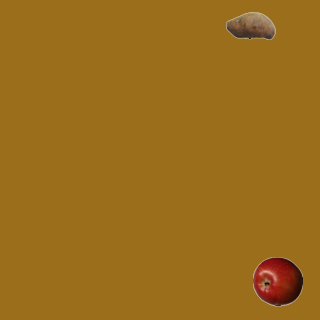Apple Braeburn: (252, 256, 302, 306)
Potato Sweet: (225, 0, 275, 50)
